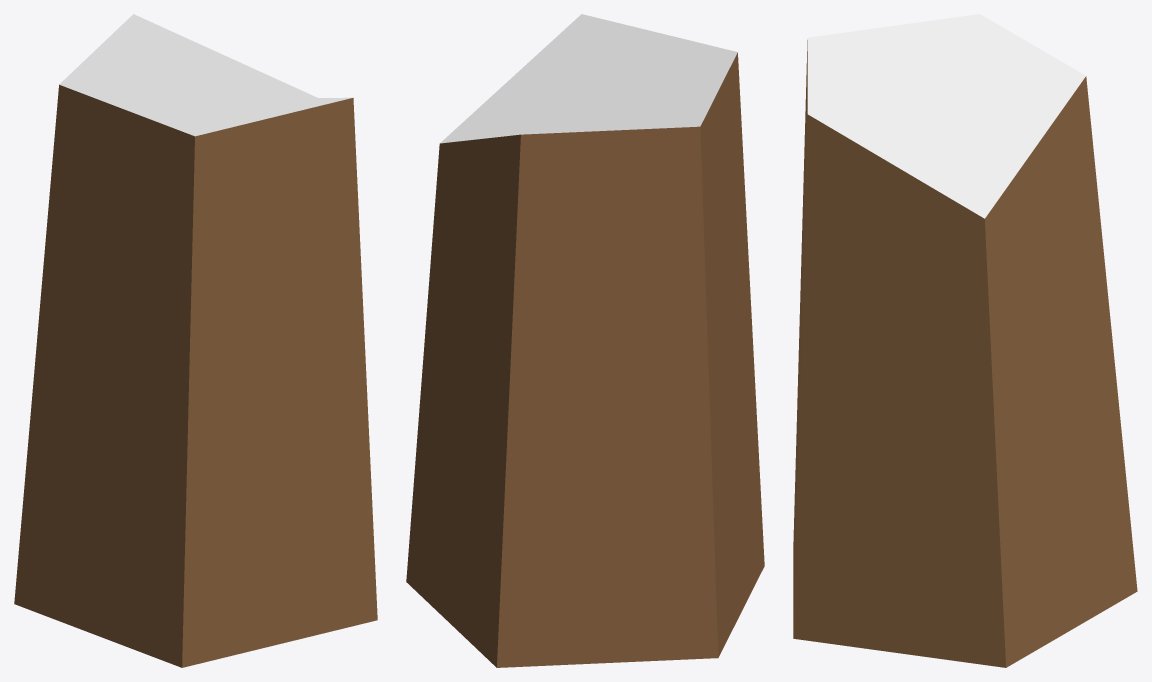
Rendered from Pine_Stump_Snow_03_LOD.fbx.
The picture shows the model from 3 angles, left to right: view 1: azimuth 30°, elevation 25°; view 2: azimuth 150°, elevation 25°; view 3: azimuth 270°, elevation 25°; orthographic projection.
Visible parts, largest first — view 1: Pine_Stump_Snow_03_LOD0; view 2: Pine_Stump_Snow_03_LOD0; view 3: Pine_Stump_Snow_03_LOD0.
Part boxes in pixels (x1,y1,x2,y2): Pine_Stump_Snow_03_LOD0: [14, 14, 377, 667]; Pine_Stump_Snow_03_LOD0: [406, 14, 764, 667]; Pine_Stump_Snow_03_LOD0: [793, 14, 1137, 667].
Size of what is drawn, in the model's own units: 61.88 by 97.42 by 58.85.
